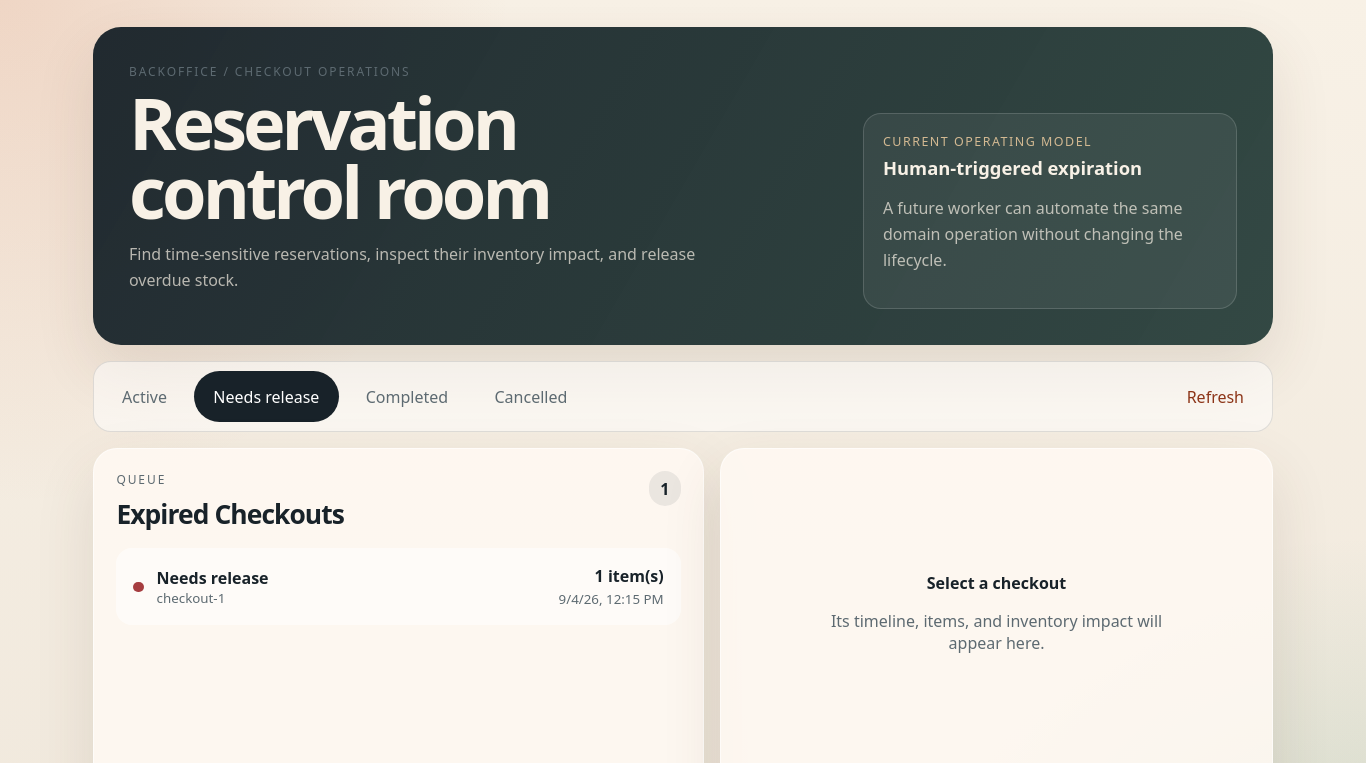
Scenario: AdminCheckoutsComponent › should refresh the queue and inventory after expiring a reservation
Click the button with class "checkout-row" at point(213, 578), box [116,548,681,625]
(page scrolled)
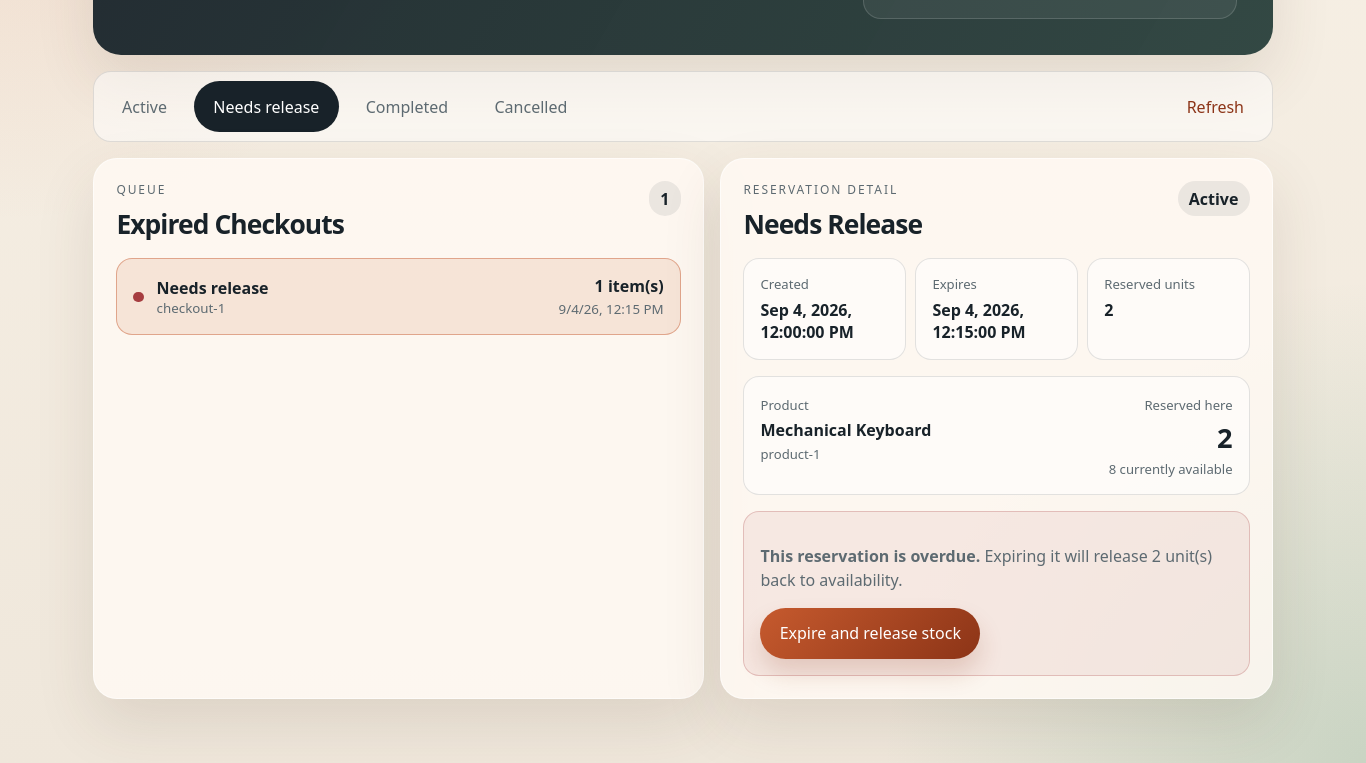
Click the button "Expire and release stock" at point(870, 633), box [760,608,980,659]
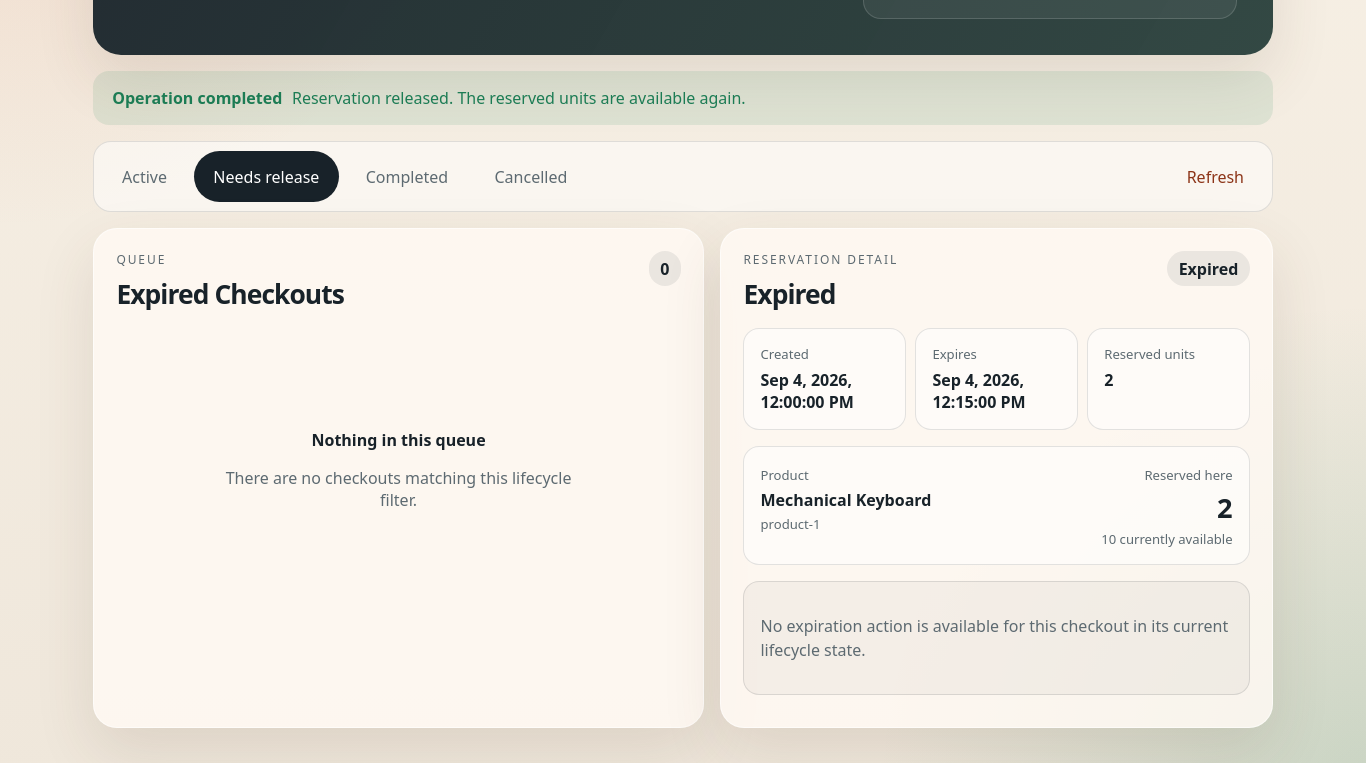
Result: the text "Reservation released. The reserved units are available again." is shown at [292,87,746,109]
Result: the text "Nothing in this queue" is shown at [312,429,486,451]
Result: the text "10 currently available" is shown at [1101,530,1233,548]
